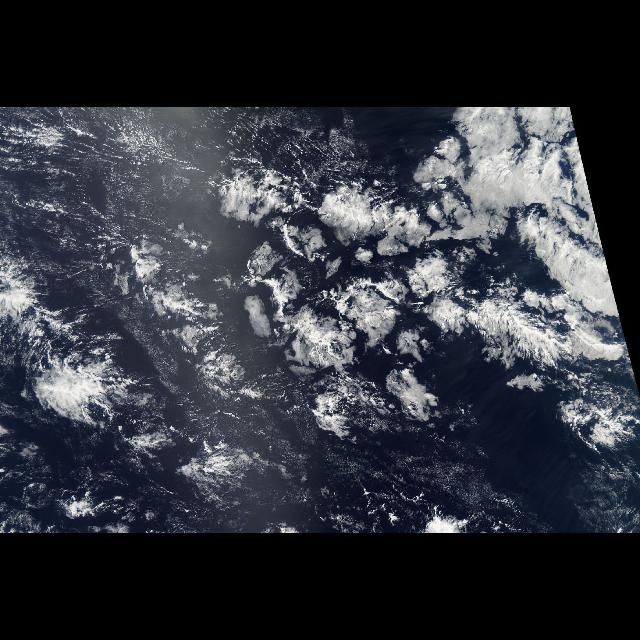Flower: (183, 113, 634, 445)
Sugar: (2, 107, 230, 290)
